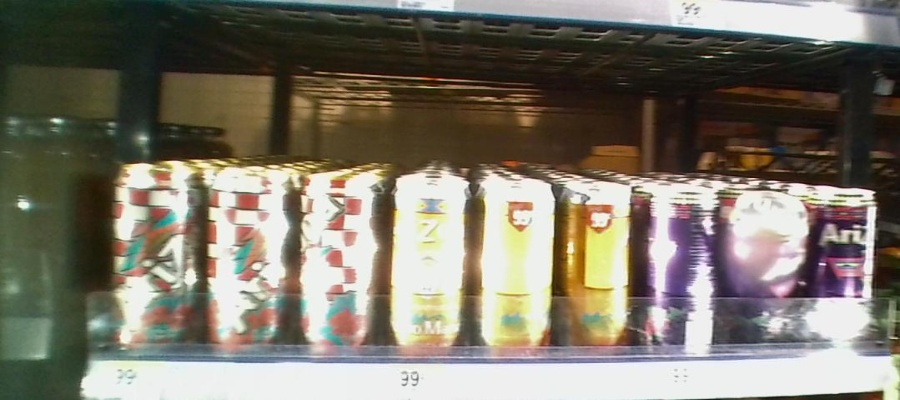bottle: (108, 153, 199, 356), (294, 160, 382, 365), (387, 169, 472, 366), (204, 165, 291, 355), (476, 169, 561, 361), (638, 177, 721, 362), (722, 189, 811, 351), (562, 176, 637, 359), (813, 183, 881, 350)
